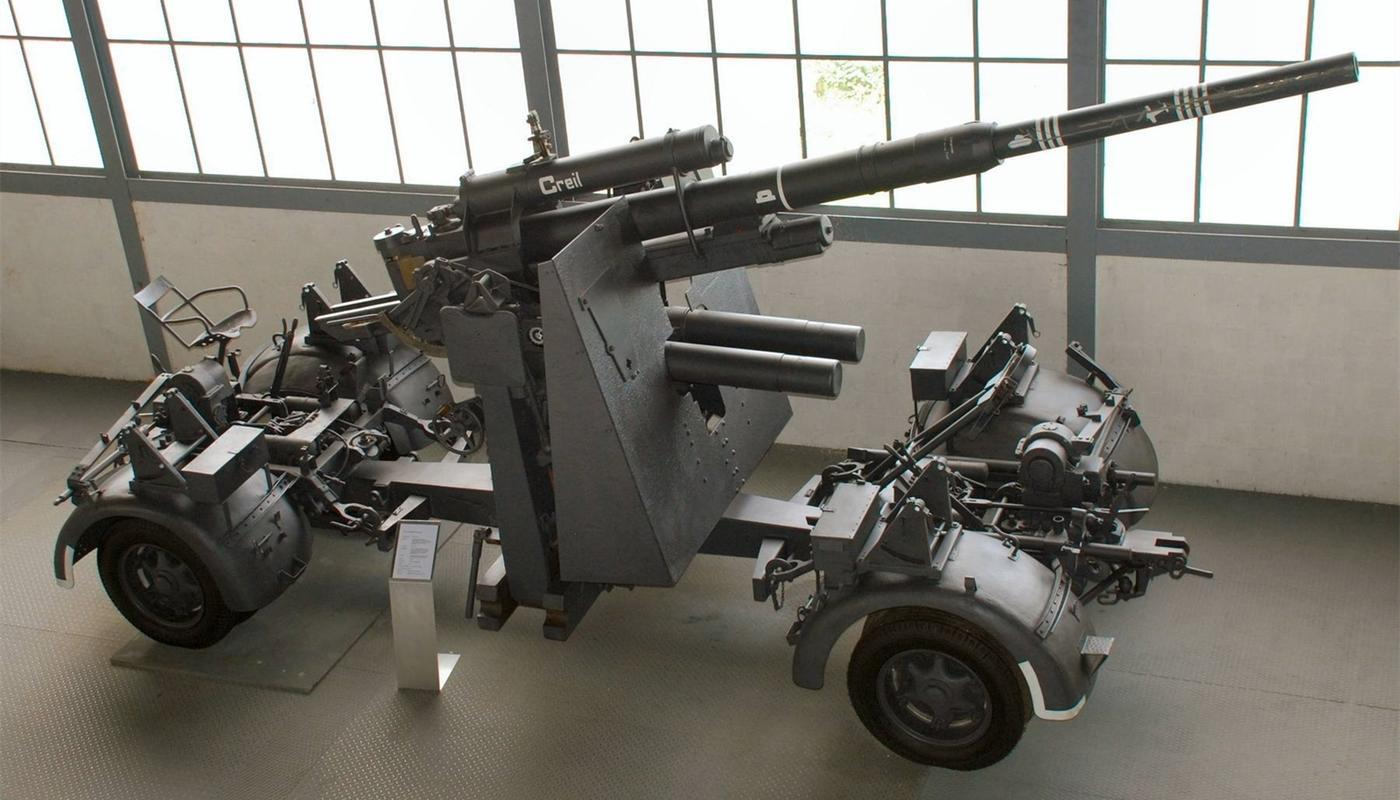MIL_SPG: (55, 55, 1356, 766)
